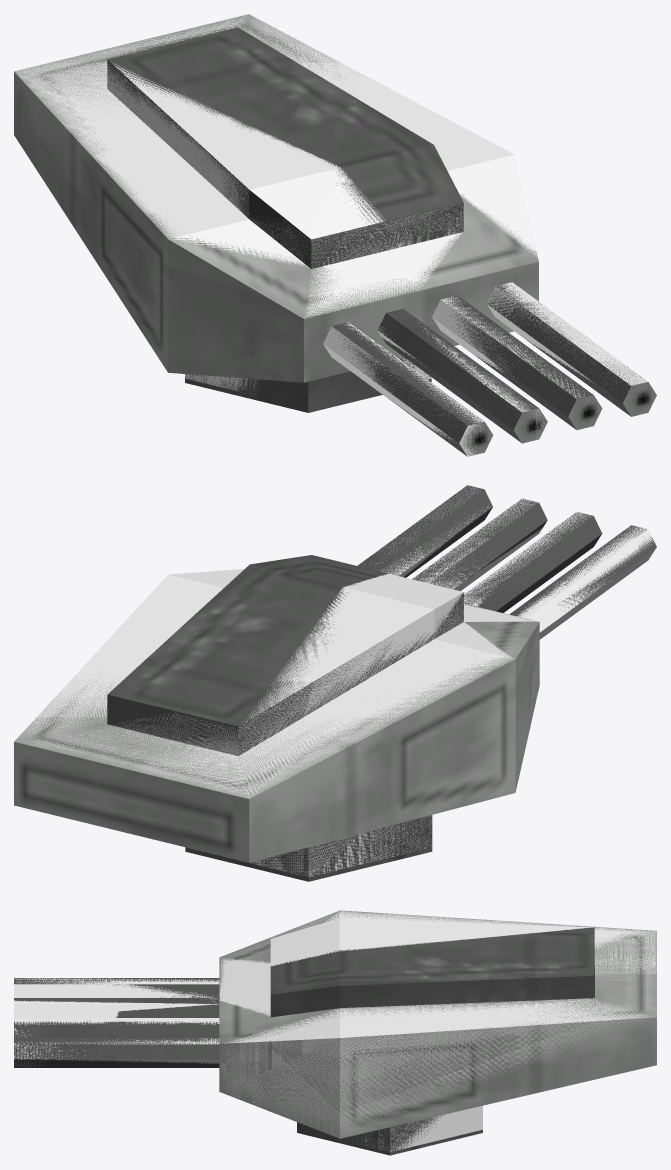
File: Strident_Turret01.obj
3 renders of one model, top to bottom at view 1: azimuth 30°, elevation 25°; view 2: azimuth 150°, elevation 25°; view 3: azimuth 270°, elevation 25°, orthographic. The views are drawn at different scales.
Visible parts, largest first — view 1: Turret_01, Turret_01_Shadow, Barrel_01, Barrel_01_Shadow; view 2: Turret_01, Turret_01_Shadow, Barrel_01, Barrel_01_Shadow; view 3: Turret_01, Turret_01_Shadow, Barrel_01, Barrel_01_Shadow.
Part boxes in pixels (x1,y1,x2,y2): Turret_01: [14, 14, 538, 412]; Turret_01_Shadow: [17, 16, 538, 393]; Barrel_01: [332, 284, 656, 456]; Barrel_01_Shadow: [323, 282, 647, 456]; Turret_01: [14, 555, 539, 881]; Turret_01_Shadow: [20, 569, 537, 877]; Barrel_01: [357, 485, 656, 617]; Barrel_01_Shadow: [373, 485, 655, 639]; Turret_01: [219, 910, 656, 1155]; Turret_01_Shadow: [219, 911, 656, 1151]; Barrel_01: [14, 978, 219, 1067]; Barrel_01_Shadow: [14, 978, 219, 1067].
Bounding box in the file's own units: 11.35 × 6.57 × 24.16.
